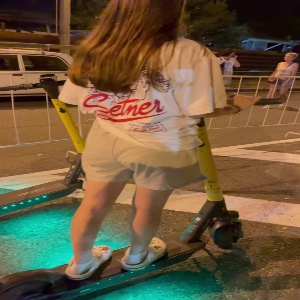human on a scooter: (2, 1, 283, 300)
